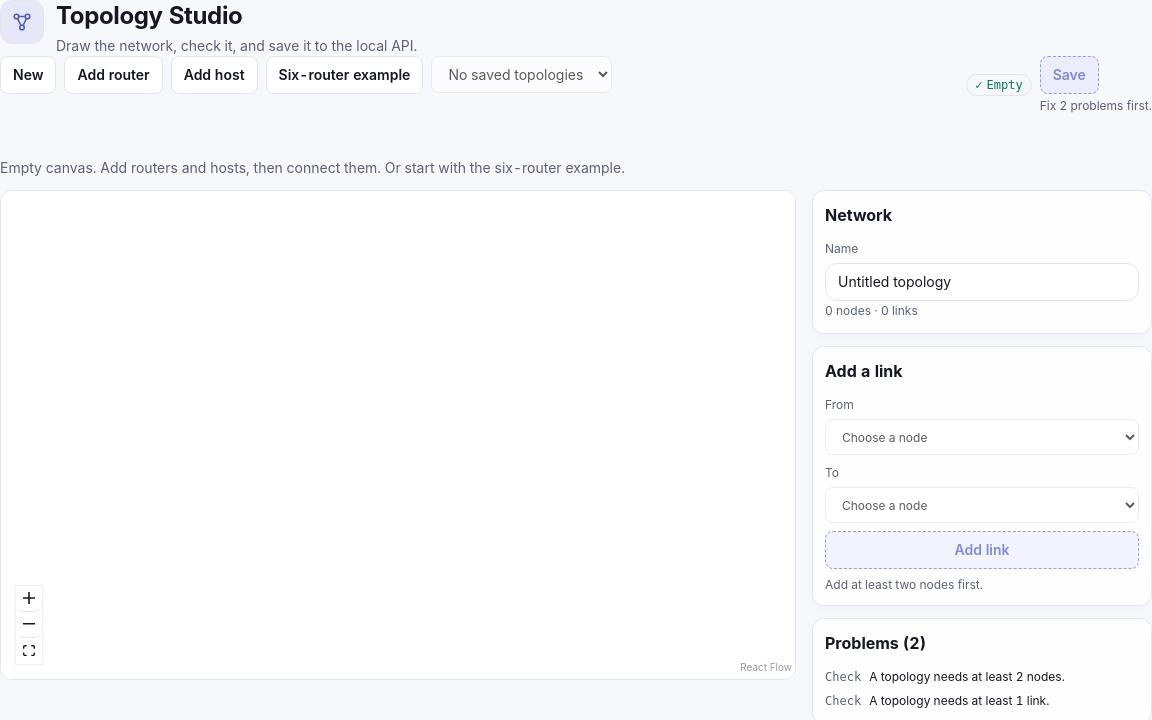
Test case: failure states › a failed save keeps the work and says why
The image size is (1152, 720).
Click the button "Six-router example".
click(344, 75)  # box [266,56,423,94]
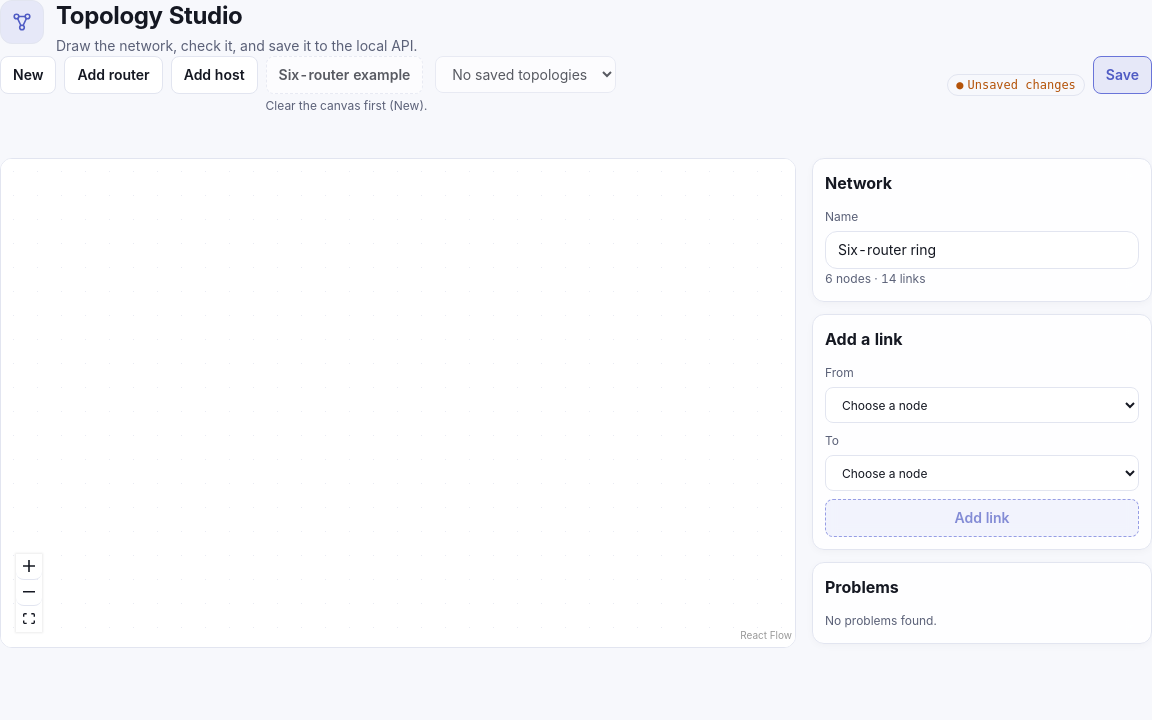
Click the button "Save".
click(1122, 75)  # box [1093,56,1151,94]
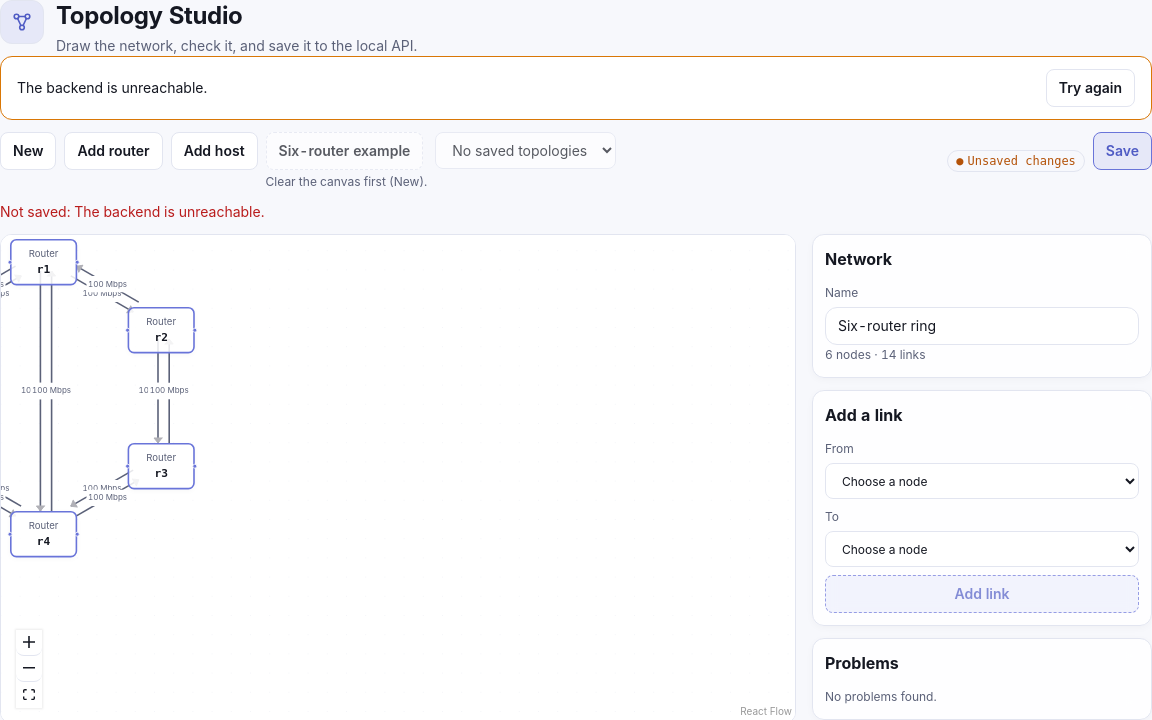
Check: the text "● Unsaved changes" is shown, box [947,150,1085,172]
Check: the text "Not saved: The backend is unreachable." is shown, box [0,203,264,220]
Click the button "Save".
click(1122, 151)  # box [1093,132,1151,170]
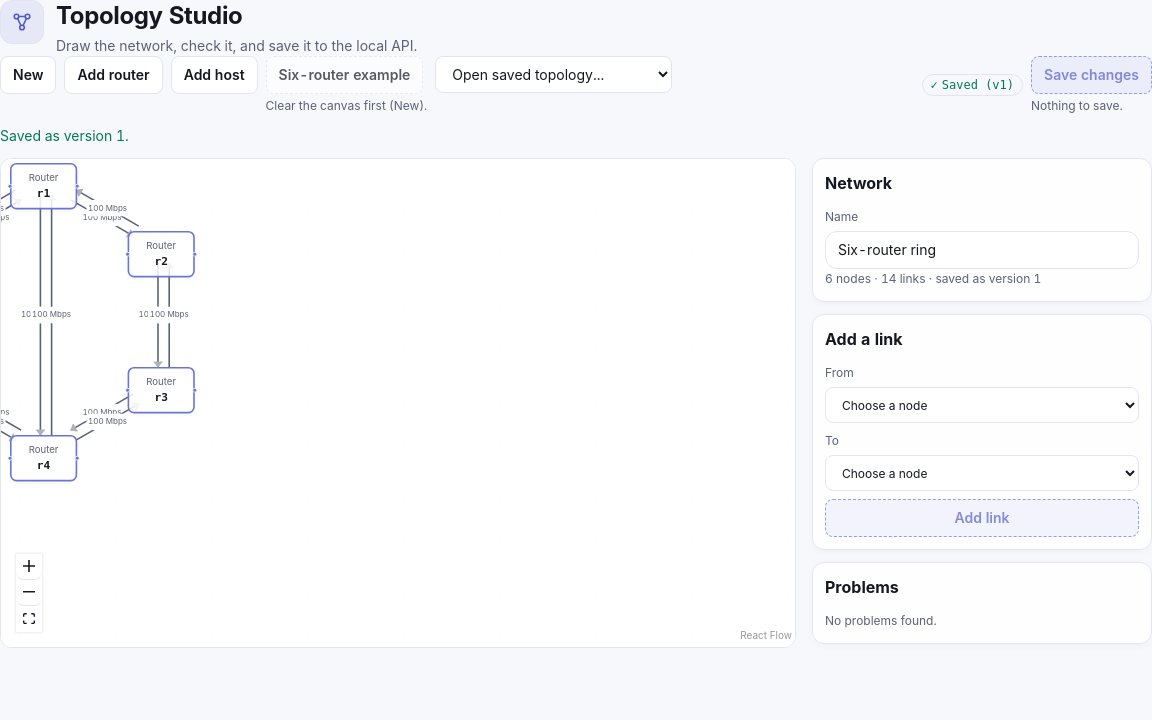
Check: the text "Saved as version 1." is shown, box [0,127,129,144]
